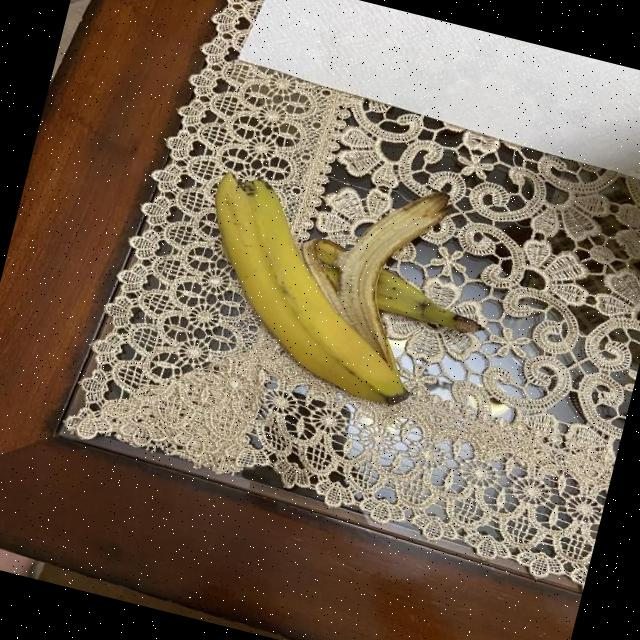banana-peel: (174, 136, 511, 424)
